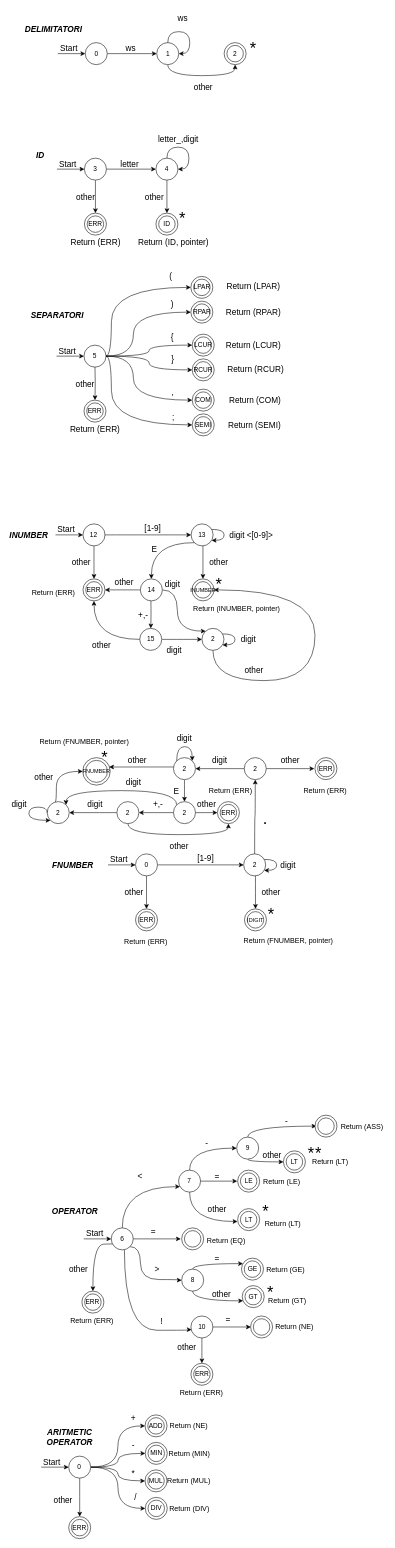
This 395x1548 diagram has some shape labels left out. Here are the shapes that lost their labels. From the top down, the centre of each, then its label:
At pixel 325 1125: "ASS".
At pixel 192 1238: "EQ".
At pixel 261 1326: "NE".
